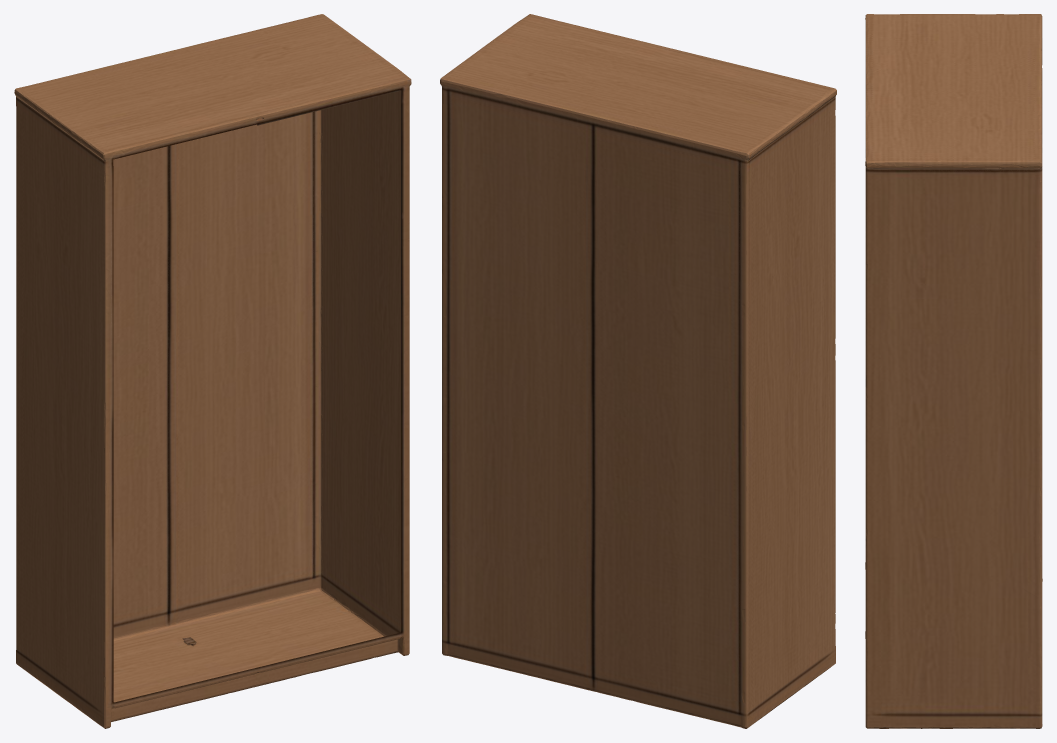
File: body.glb
3 views of the same model, side by side, from view 1: azimuth 30°, elevation 25°; view 2: azimuth 150°, elevation 25°; view 3: azimuth 270°, elevation 25° (orthographic).
Parts seen in each view (by area): view 1: source_surface_0; view 2: source_surface_0; view 3: source_surface_0.
Part boxes in pixels (x1,y1,x2,y2): source_surface_0: (14,14,411,728); source_surface_0: (440,14,836,728); source_surface_0: (865,14,1042,728).
Bounding box in the file's own units: 1.8 × 3.21 × 0.9048.
Materials: 1 (1 with a texture image).
